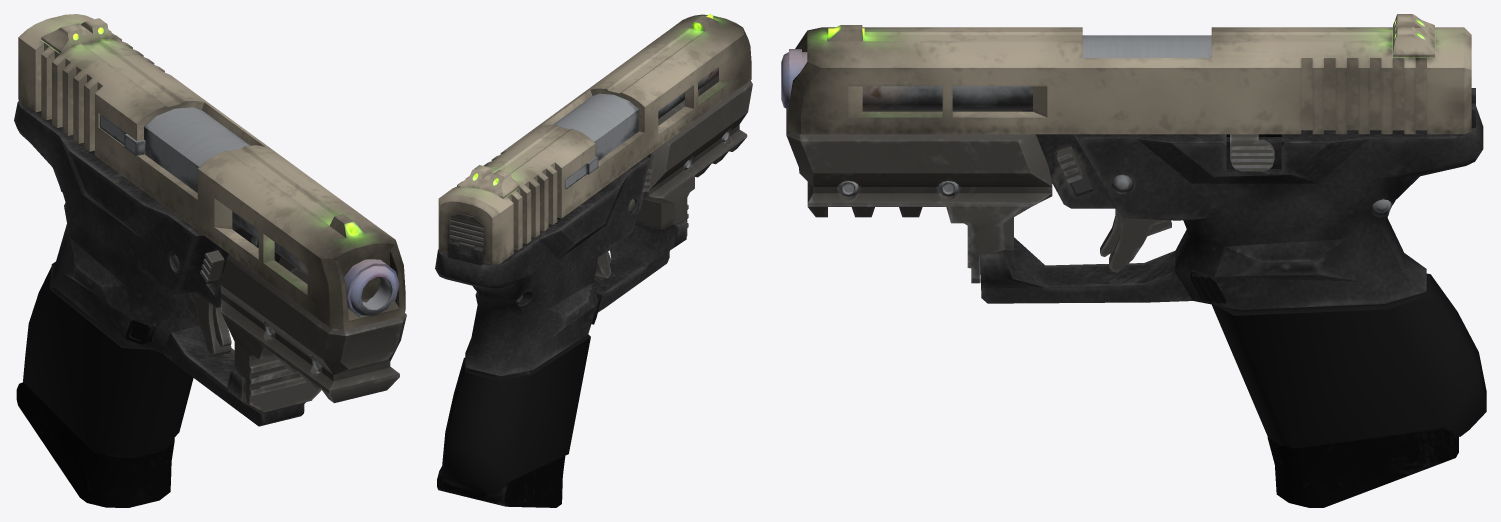
The model's file is pistol_43_tactical__free_lowpoly.glb.
3 renders of one model, left to right at view 1: azimuth 30°, elevation 25°; view 2: azimuth 150°, elevation 25°; view 3: azimuth 270°, elevation 25°, orthographic. The views are drawn at different scales.
Size of the model in its own units: 1.23 by 4.83 by 6.67.
Materials: 1 (1 with a texture image).
